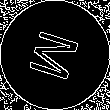M_E: (24, 25, 86, 85)
